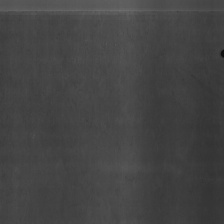punching_hole: (0, 7, 224, 17), (219, 46, 224, 58)
